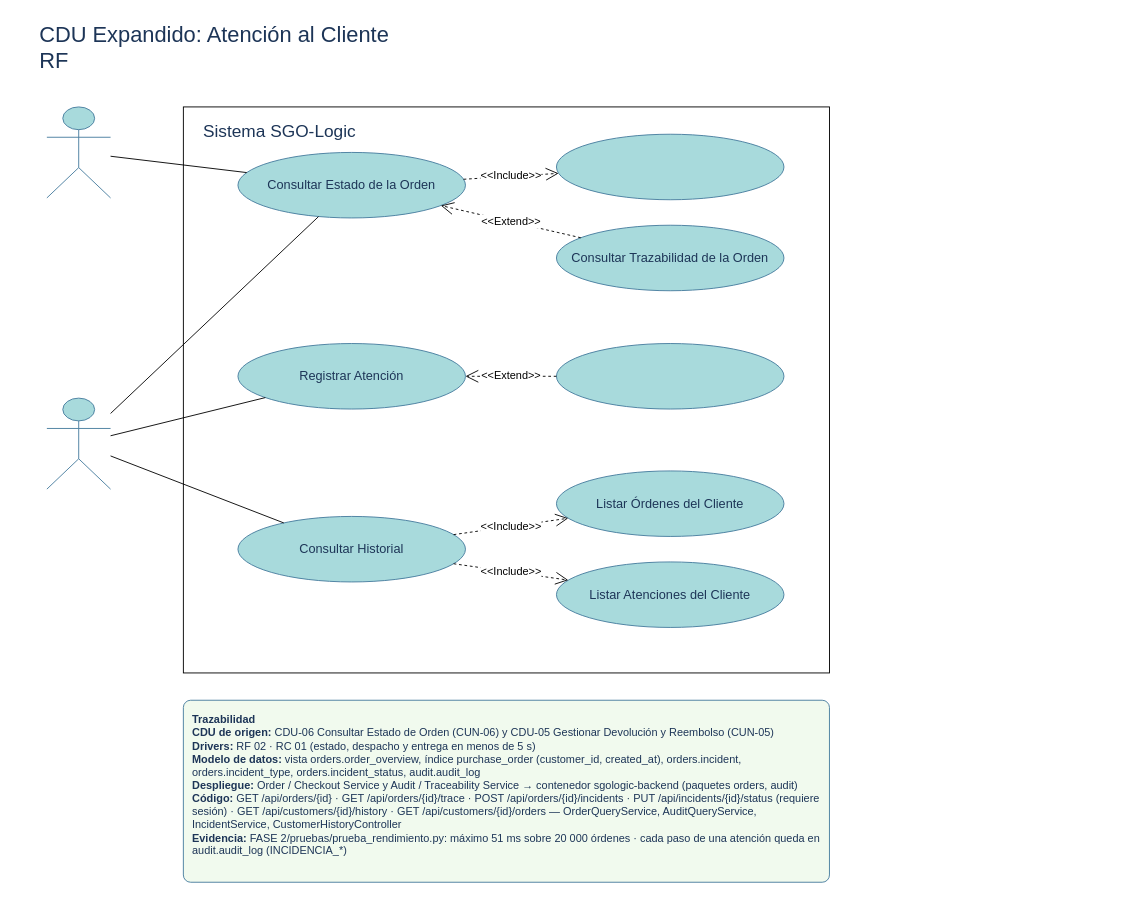
This 1145x898 diagram has some shape labels left out. Each missing label, with the centre of its shape:
Agente de Call Center: (x=78, y=443)
Cliente: (x=78, y=152)
Consultar Despacho y Entrega: (x=670, y=166)
Registrar Cambio o Devolución: (x=670, y=376)
